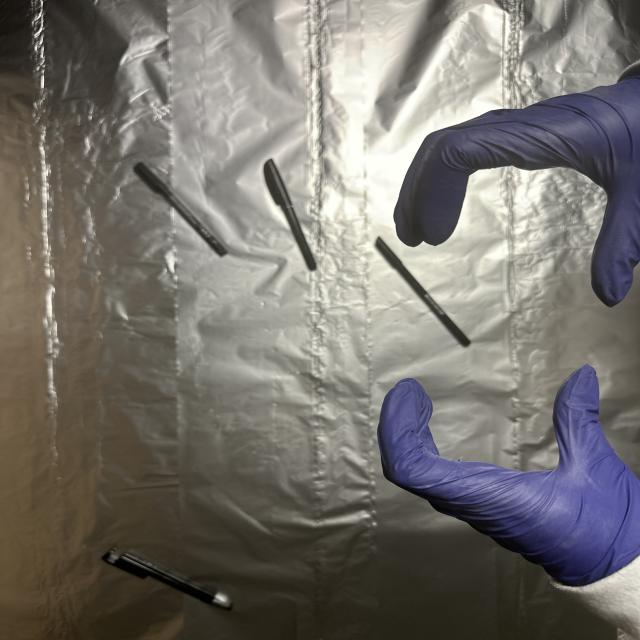gloves_contaminated: (394, 68, 640, 306), (378, 365, 640, 587)
